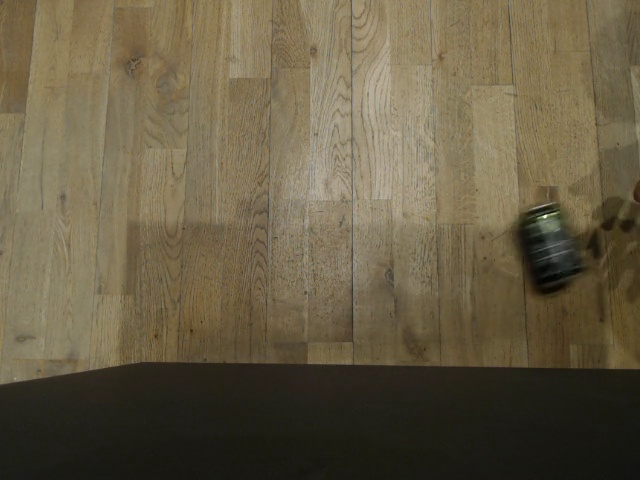beer: (512, 194, 593, 300)
